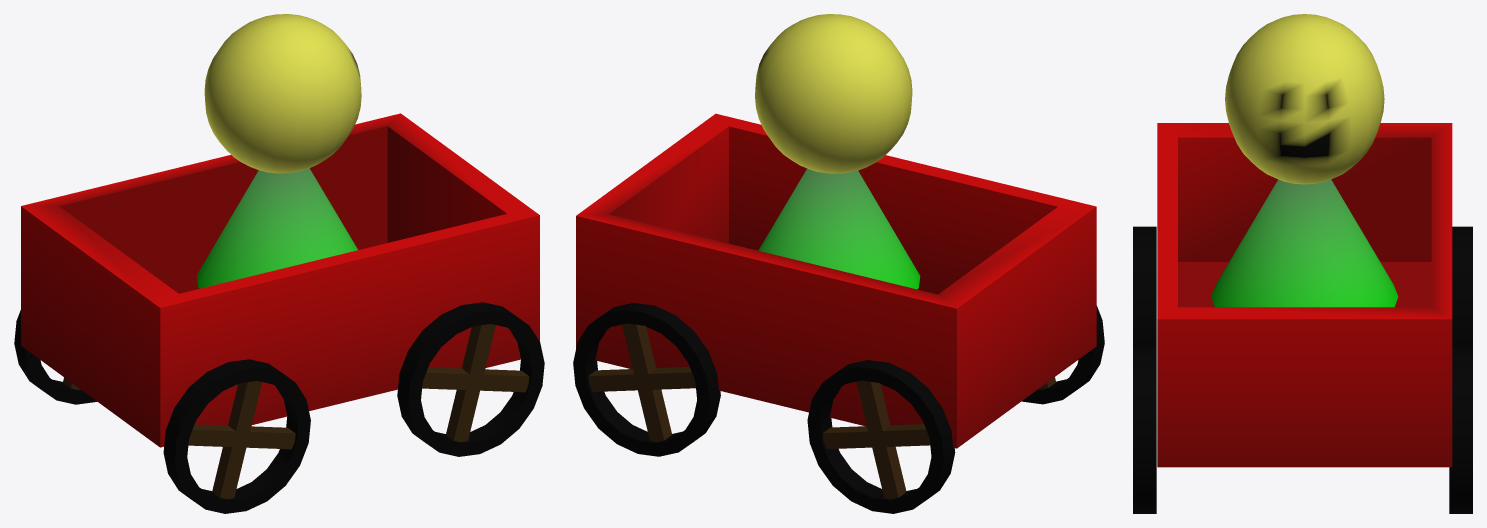
The model's file is cart1.fbx.
The picture shows the model from 3 angles, left to right: view 1: azimuth 30°, elevation 25°; view 2: azimuth 150°, elevation 25°; view 3: azimuth 270°, elevation 25°; orthographic projection. The views are drawn at different scales.
Visible parts, largest first — view 1: cart, pSphere1, wheel1, wheel, pCone1, wheel2; view 2: cart, pSphere1, wheel3, wheel2, pCone1, wheel1; view 3: cart, pSphere1, pCone1, wheel, wheel3, wheel1, wheel2.
Boxes of the visible parts, x1=… form: cart: x1=21, y1=113, x2=539, y2=447; pSphere1: x1=204, y1=14, x2=361, y2=173; wheel1: x1=163, y1=359, x2=310, y2=513; wheel: x1=397, y1=302, x2=544, y2=456; pCone1: x1=196, y1=168, x2=357, y2=288; wheel2: x1=14, y1=310, x2=97, y2=404; cart: x1=576, y1=113, x2=1096, y2=448; pSphere1: x1=755, y1=14, x2=912, y2=173; wheel3: x1=573, y1=302, x2=720, y2=456; wheel2: x1=807, y1=360, x2=955, y2=513; pCone1: x1=758, y1=168, x2=920, y2=289; wheel1: x1=1022, y1=305, x2=1104, y2=404; cart: x1=1157, y1=123, x2=1452, y2=467; pSphere1: x1=1225, y1=14, x2=1384, y2=184; pCone1: x1=1211, y1=179, x2=1398, y2=307; wheel: x1=1133, y1=347, x2=1156, y2=513; wheel3: x1=1449, y1=347, x2=1472, y2=513; wheel1: x1=1133, y1=226, x2=1156, y2=347; wheel2: x1=1452, y1=226, x2=1472, y2=347.
Size of the model in its own units: 2.85 by 2.88 by 2.08.
